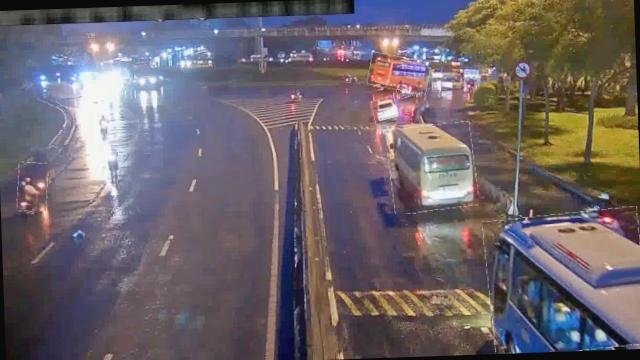Bike: (16, 162, 48, 212), (106, 152, 119, 184), (94, 112, 108, 138)
Bus: (483, 209, 640, 354), (387, 122, 478, 214), (368, 53, 431, 93)
Car: (371, 96, 398, 122), (396, 79, 420, 99), (436, 74, 461, 90)
